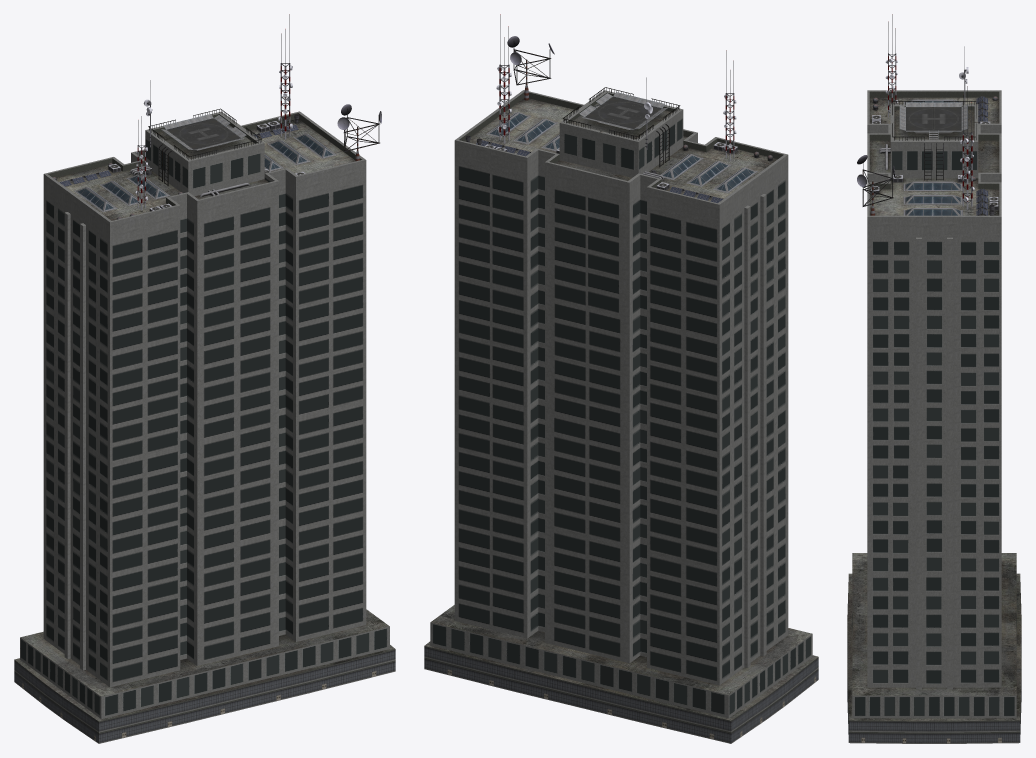
The model's file is building_01.obj.
3 views of the same model, side by side, from view 1: azimuth 30°, elevation 25°; view 2: azimuth 150°, elevation 25°; view 3: azimuth 270°, elevation 25° (orthographic). The views are drawn at different scales.
Visible parts, largest first — view 1: Object003f, Object003g, Object003d; view 2: Object003f, Object003g, Object003d; view 3: Object003f, Object003g, Object003d.
Part boxes in pixels (box(x1,y1,x2,y2)): Object003f: box(14, 111, 395, 743); Object003g: box(52, 104, 381, 219); Object003d: box(59, 14, 298, 210); Object003f: box(424, 90, 818, 743); Object003g: box(465, 36, 772, 193); Object003d: box(476, 14, 736, 202); Object003f: box(847, 90, 1021, 743); Object003g: box(857, 96, 998, 215); Object003d: box(885, 14, 987, 215).
Size of the model in its own units: 77.46 by 154 by 38.43.
Materials: 3 (3 with a texture image).
